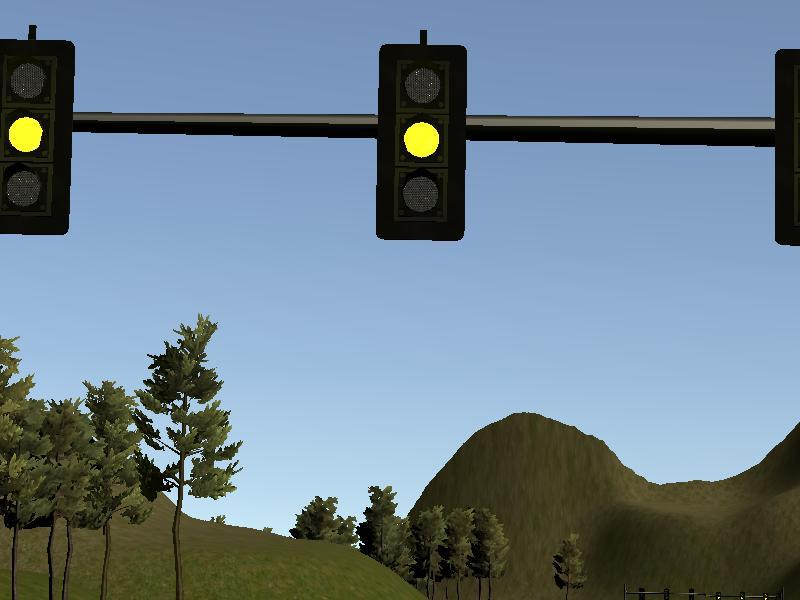Yellow: (378, 45, 464, 238), (1, 42, 71, 233)
